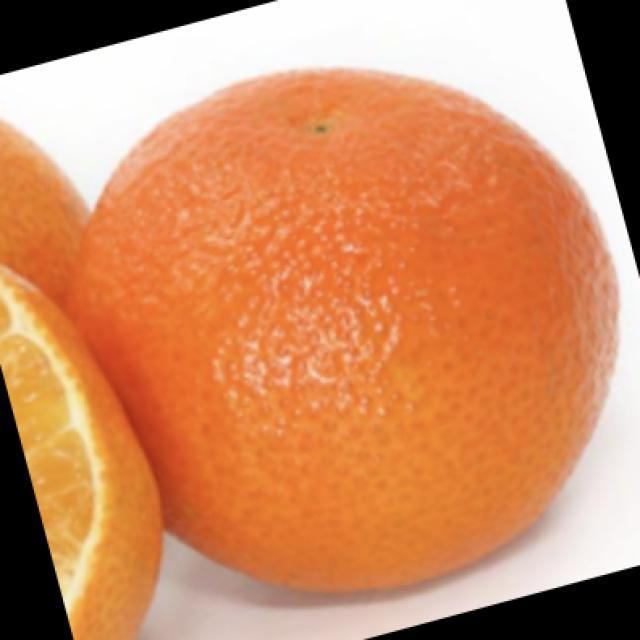Orange: (65, 64, 621, 594), (0, 251, 164, 639), (0, 102, 90, 310)
